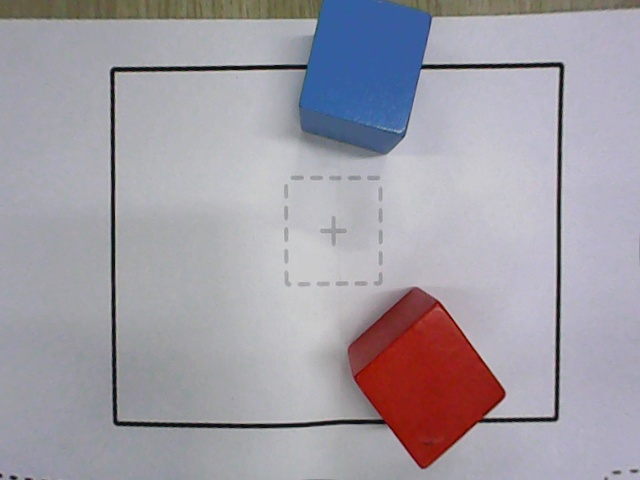upside of big cube: (354, 303, 506, 471), (299, 0, 432, 135)
